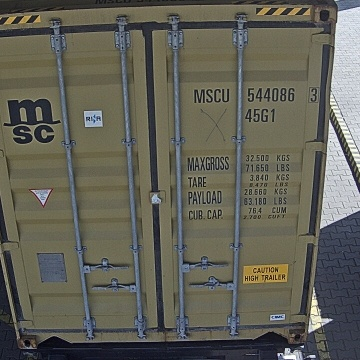serial_id: (194, 86, 319, 102)
